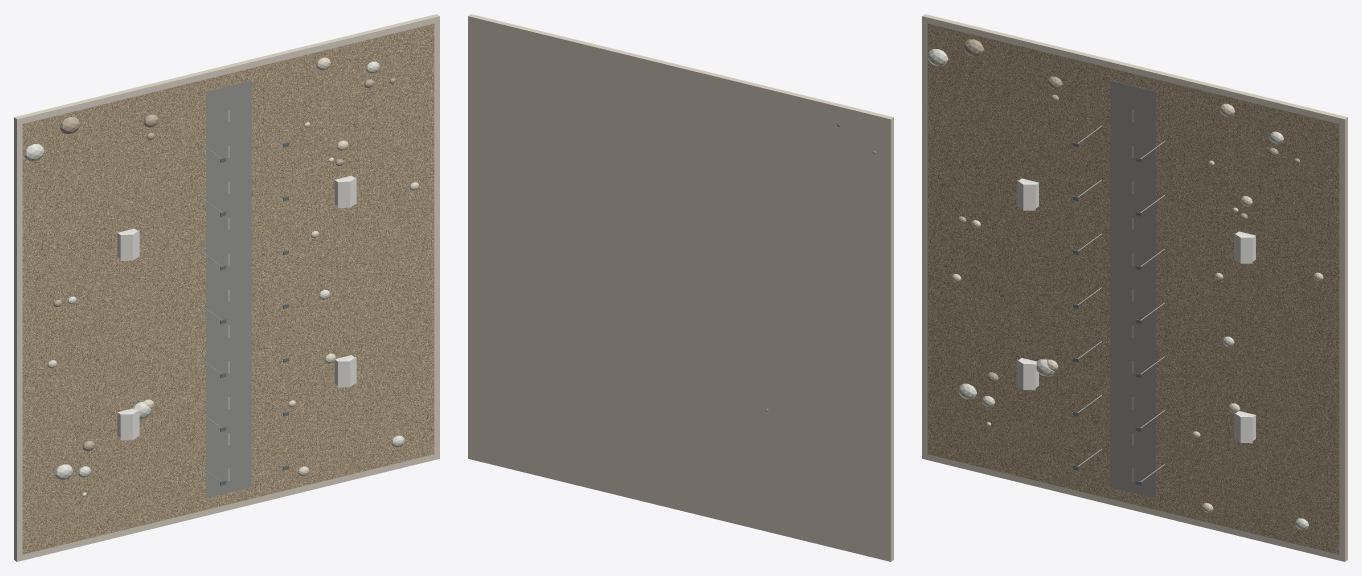
Rendered from step_3.glb.
3 views of the same model, side by side, from view 1: azimuth 30°, elevation 25°; view 2: azimuth 150°, elevation 25°; view 3: azimuth 330°, elevation 25° (orthographic).
Visible parts, largest first — view 1: world; view 2: world; view 3: world.
Boxes of the visible parts, x1=… form: world: x1=14, y1=14, x2=439, y2=561; world: x1=468, y1=14, x2=893, y2=561; world: x1=922, y1=14, x2=1347, y2=561.
Bounding box in the file's own units: 74 × 74 × 8.93.
Materials: 14 (1 with a texture image).
